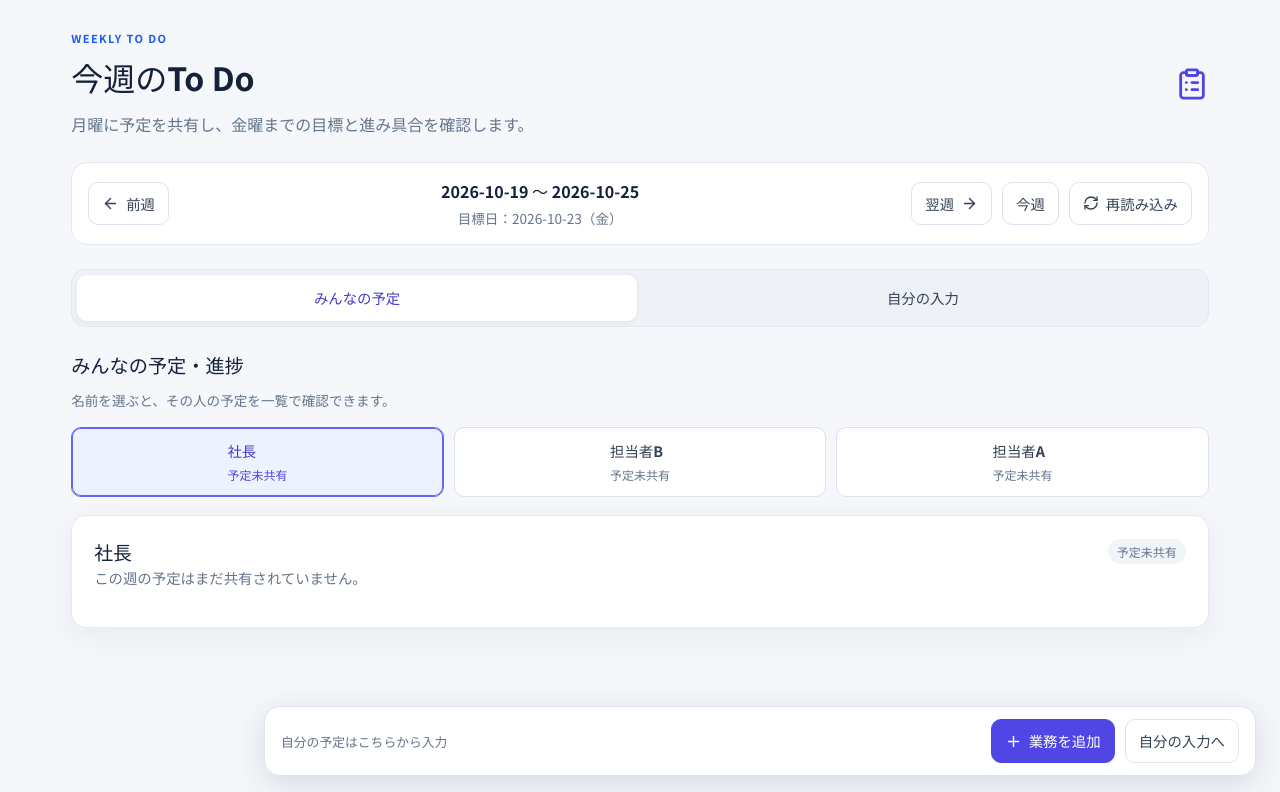
weekly To Do workspace › saves employee's private draft without publishing and sends a stable item ID
The image size is (1280, 792).
Expected: the heading "みんなの予定・進捗" is shown, [71,351,244,379]
Click the button "業務を追加" at (1053, 741), box [991,719,1115,763]
(page scrolled)
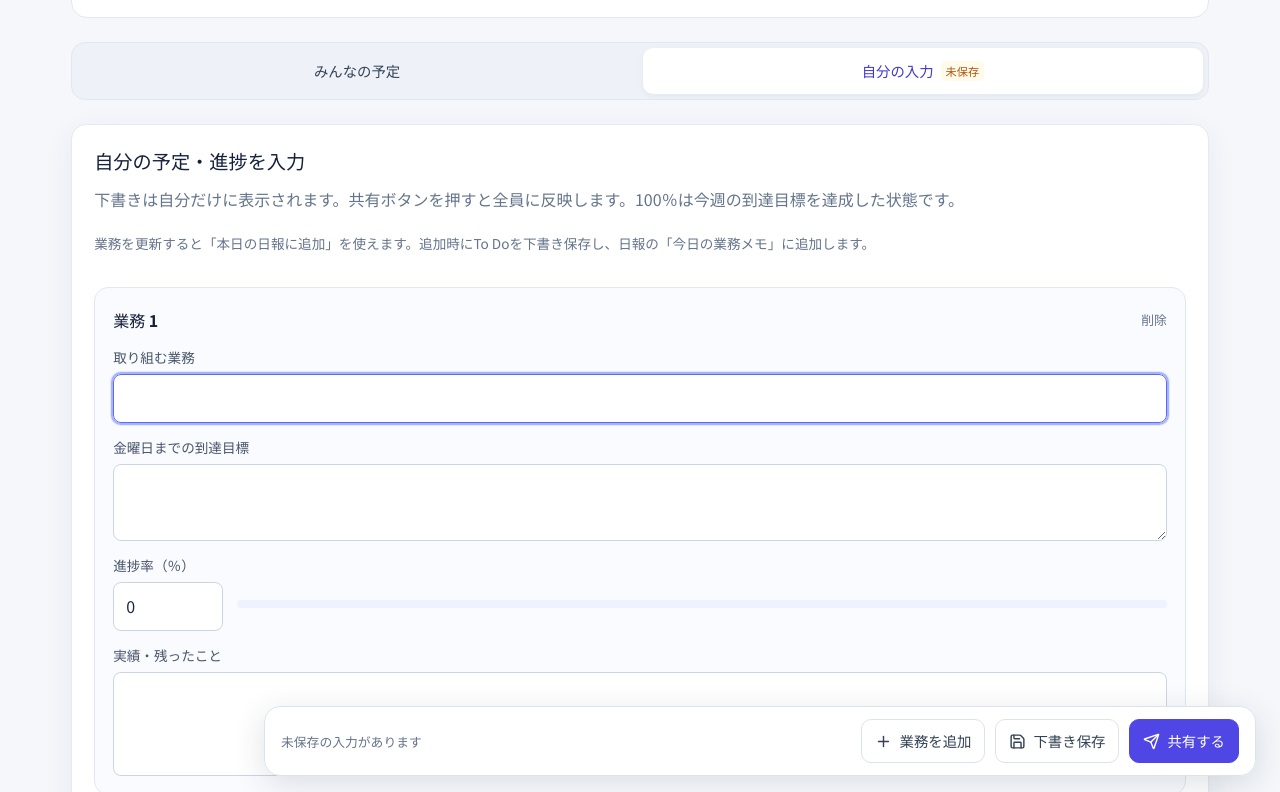
Type "比較資料" into the field labelled "取り組む業務" at (640, 399), box [113,374,1167,424]
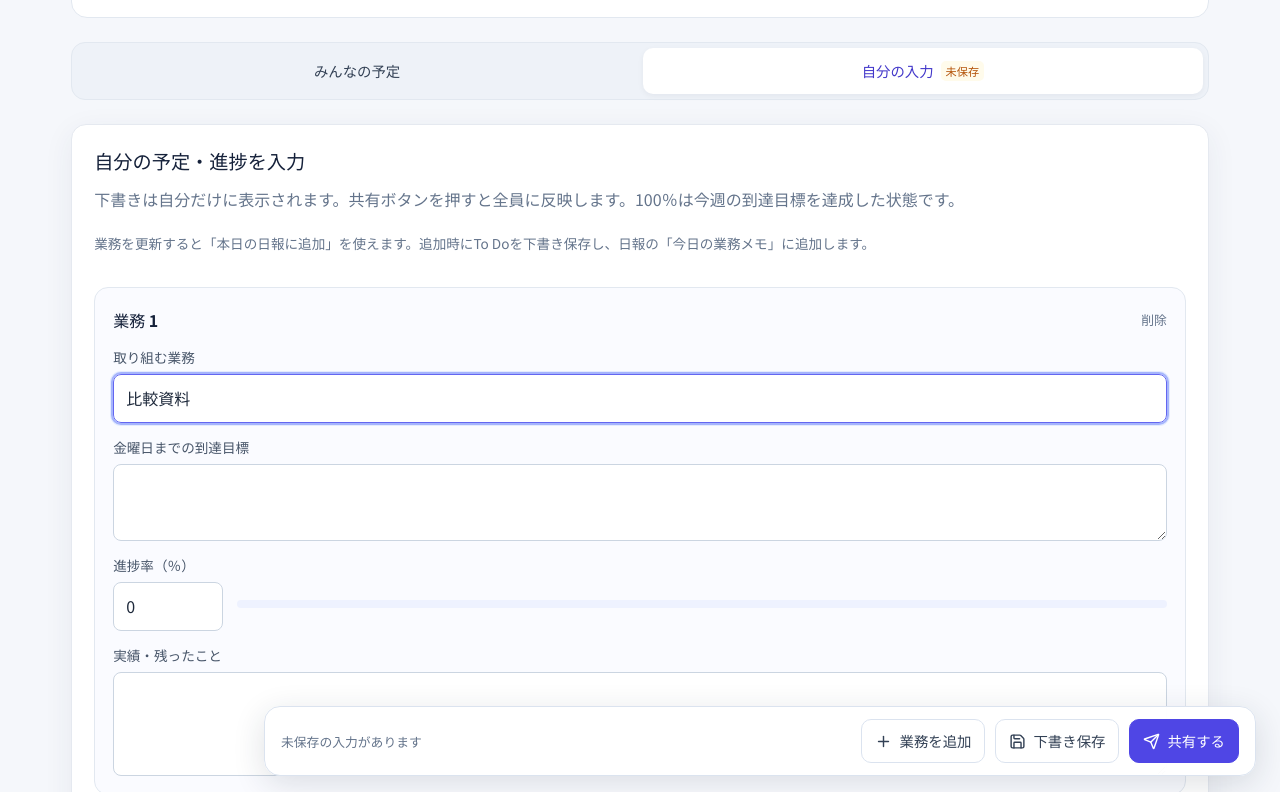
Type "比較表の初稿" into the text box labelled "金曜日までの到達目標" at (640, 503), box [113,464,1167,541]
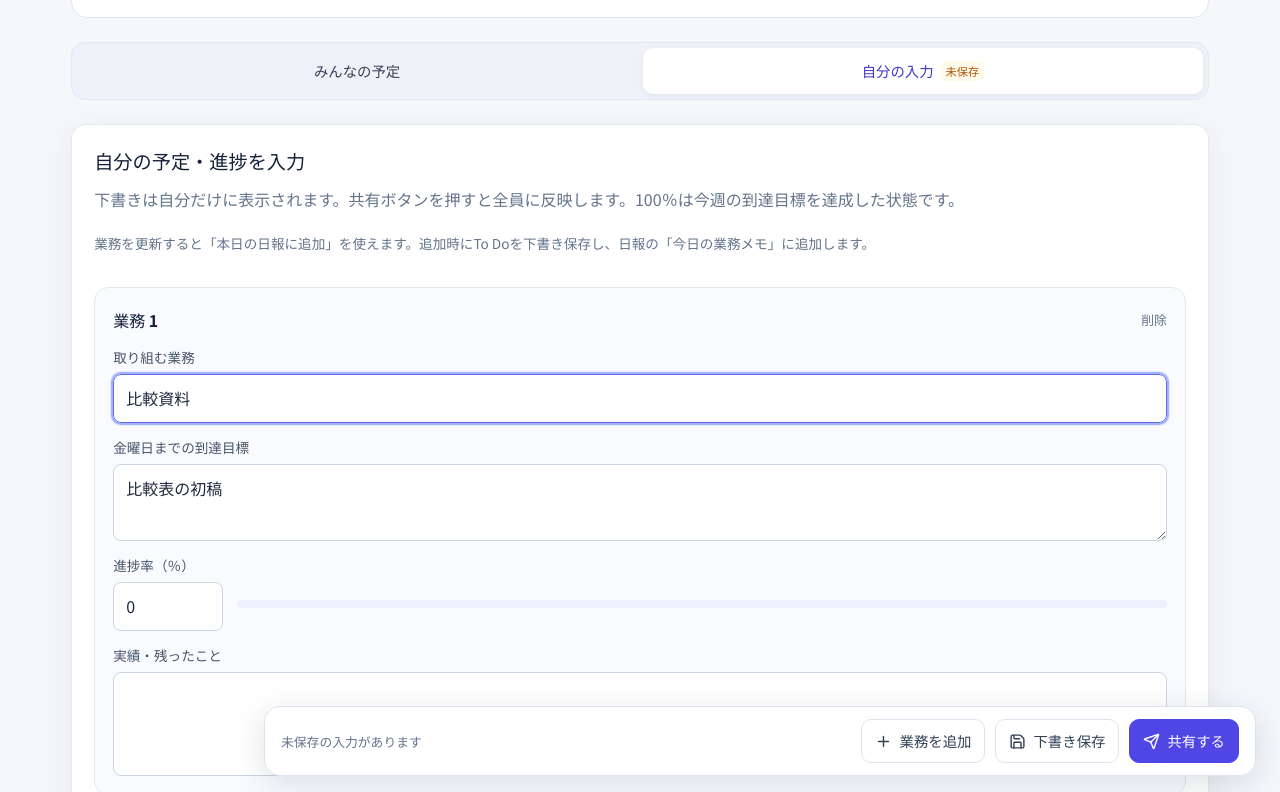
Click the button "下書き保存" at (1058, 741), box [996,719,1120,763]
(page scrolled)
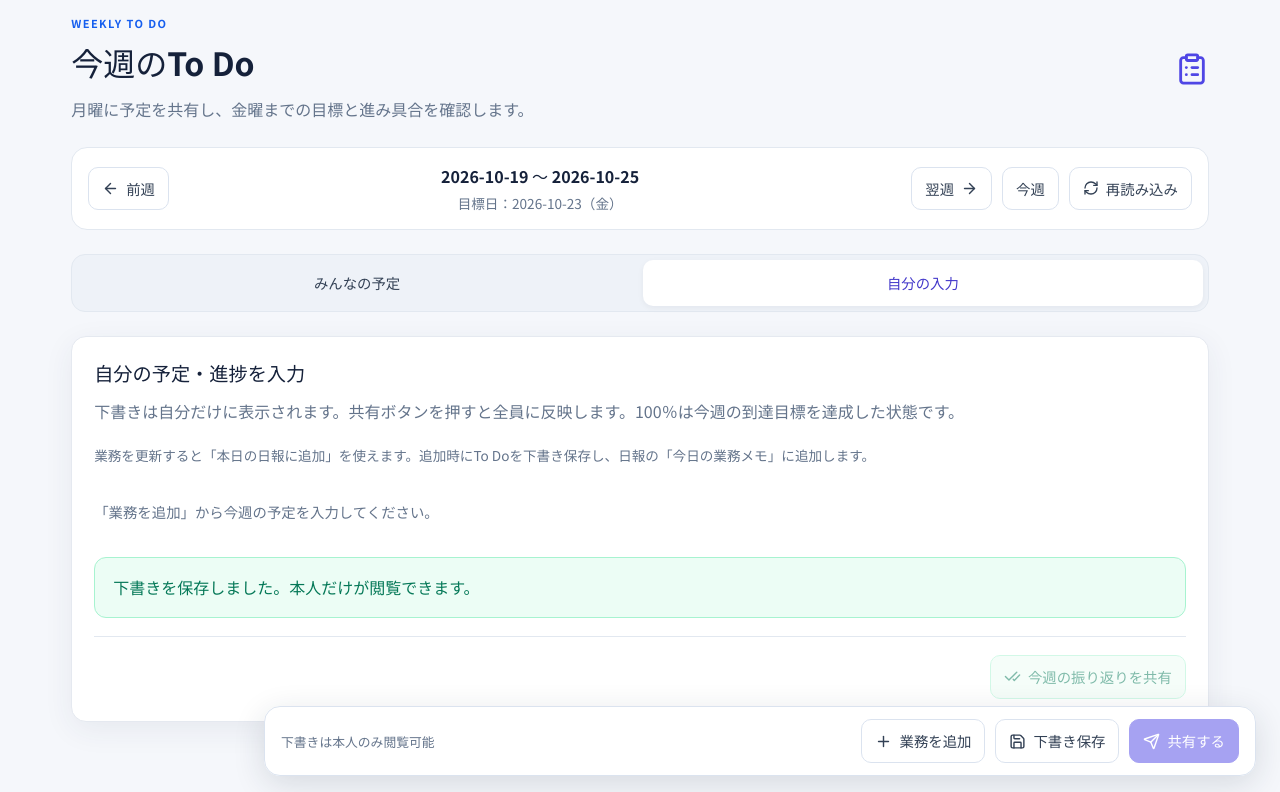
Expected: the text "下書きを保存しました。本人だけが閲覧できます。" is shown, [94,557,1186,618]
